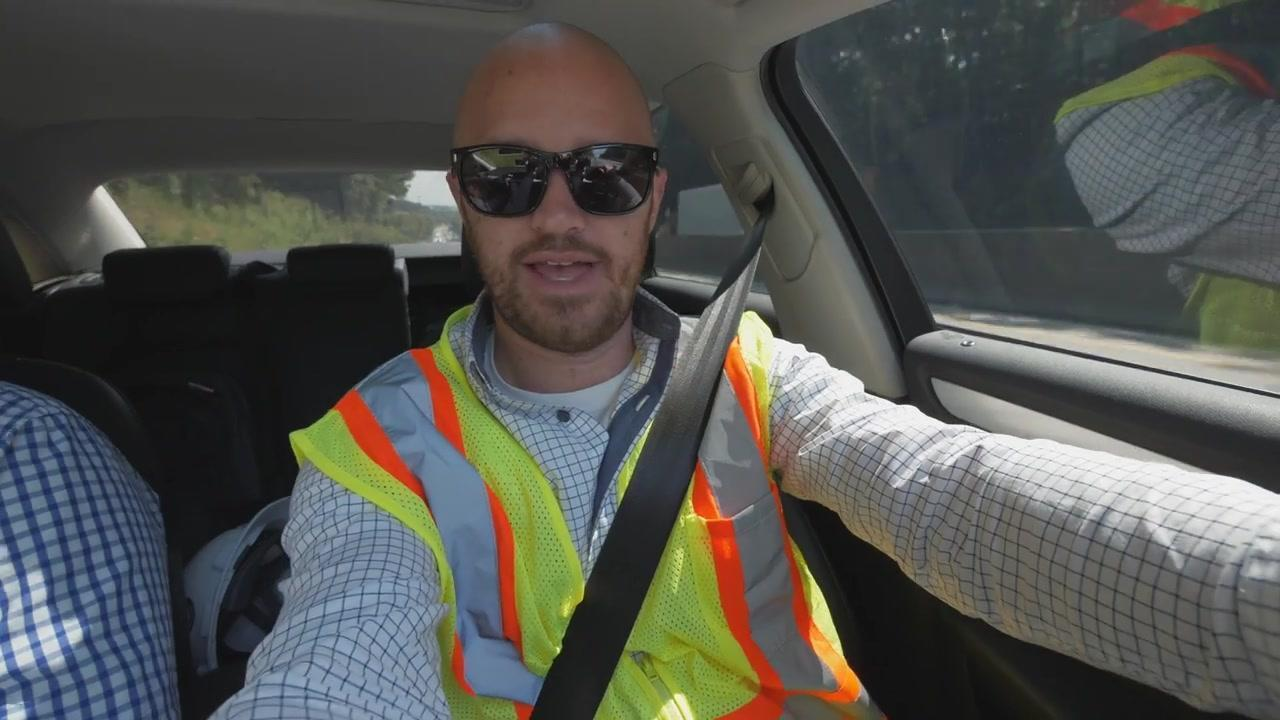vest: (277, 303, 887, 719), (1050, 0, 1279, 362)
